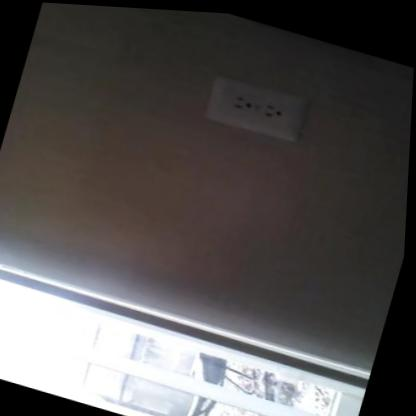OUTLET: (205, 73, 310, 142)
